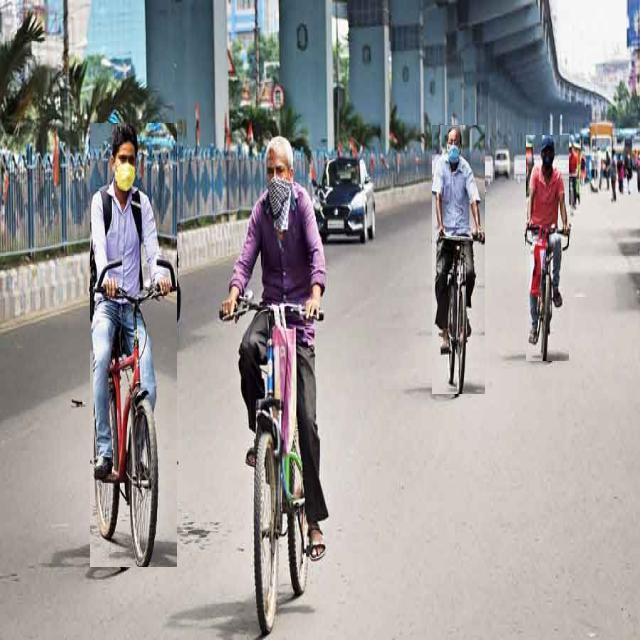bicycle: (220, 135, 328, 634), (91, 124, 177, 567), (432, 126, 485, 394), (526, 135, 569, 361)
car: (315, 158, 375, 243)
